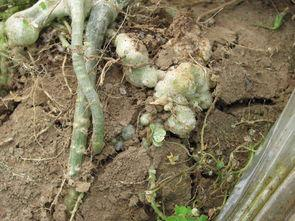grub: (137, 110, 154, 129)
